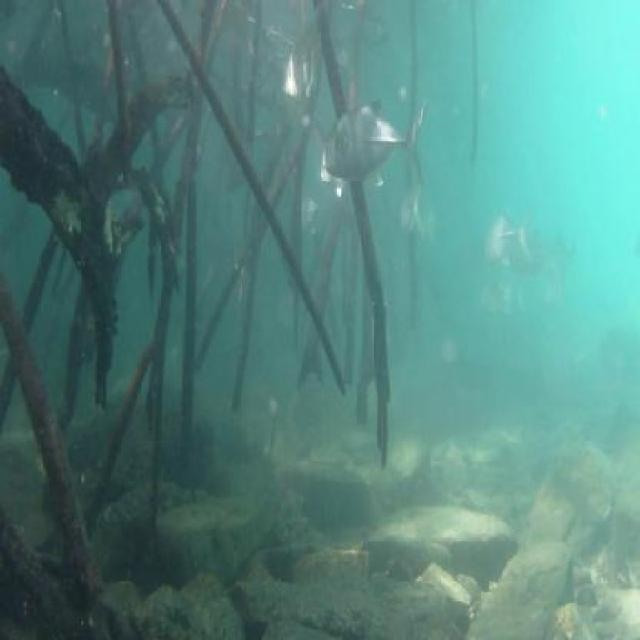Caranx_sexfasciatus_juvenile: (318, 98, 434, 199), (508, 224, 570, 285), (272, 32, 311, 111), (386, 192, 434, 250), (475, 212, 520, 271)
